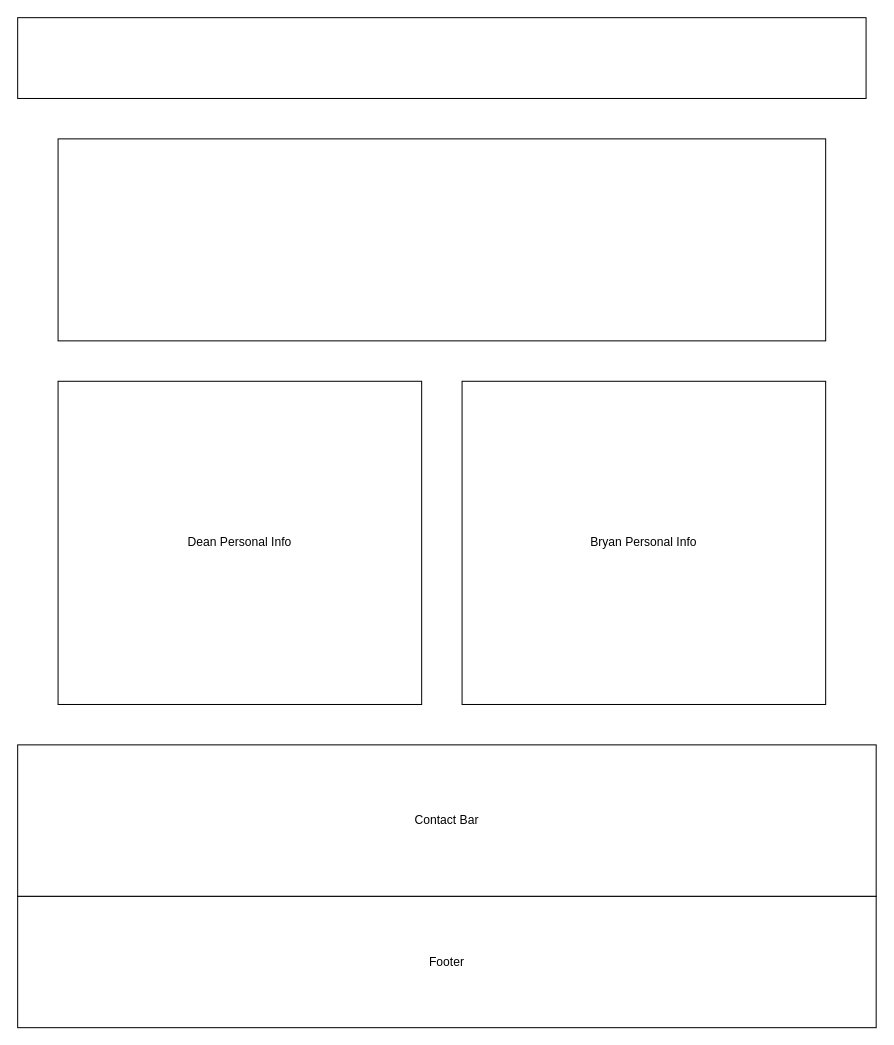
The diagram is 894 pixels wide and 1045 high, and some of its shapes have lost their labels. Each missing label, with the centre of its shape:
"Mission Statement" goes at point (441, 239).
"Topbar" goes at point (441, 57).
